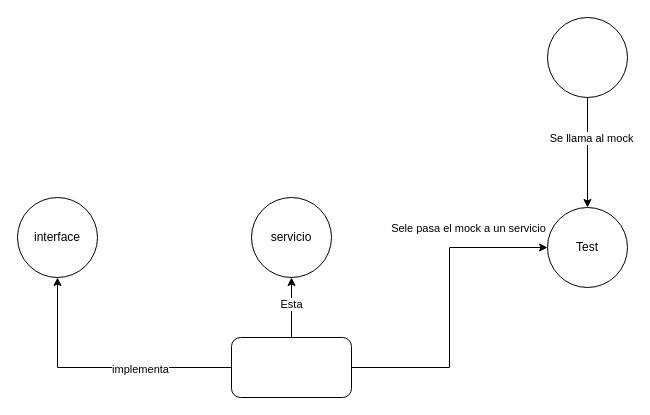
The diagram is 650 pixels wide and 415 high, and some of its shapes have lost their labels. Each missing label, with the centre of its shape:
"metodos" goes at point (291, 367).
"mock" goes at point (587, 57).
